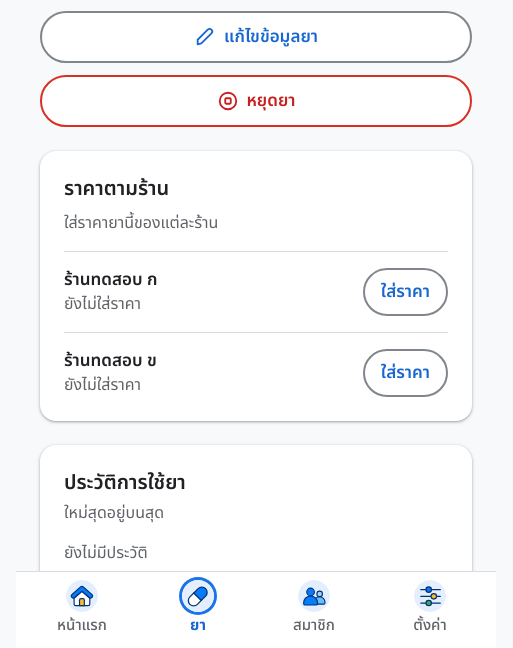
Test: regular medicine: put, change and delete a price › put a price: 290 per กล่อง of 60 -> the row reads it, judya.v2 holds it, "บันทึกราคาของ … แล้ว"
(page scrolled)
Click the button with aria-label "ใส่ราคา ร้านทดสอบ ก" at coordinates (405, 292), box x1=363 y1=268 x2=448 y2=316
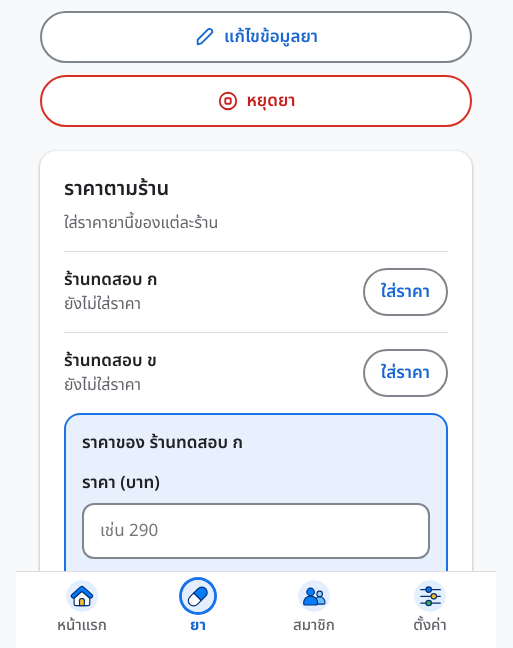
Check: the heading "ราคาของ ร้านทดสอบ ก" is shown, box x1=82 y1=430 x2=243 y2=456
Type "290" into the number field labelled "ราคา (บาท)" at coordinates (256, 531), box x1=82 y1=503 x2=430 y2=559
(page scrolled)
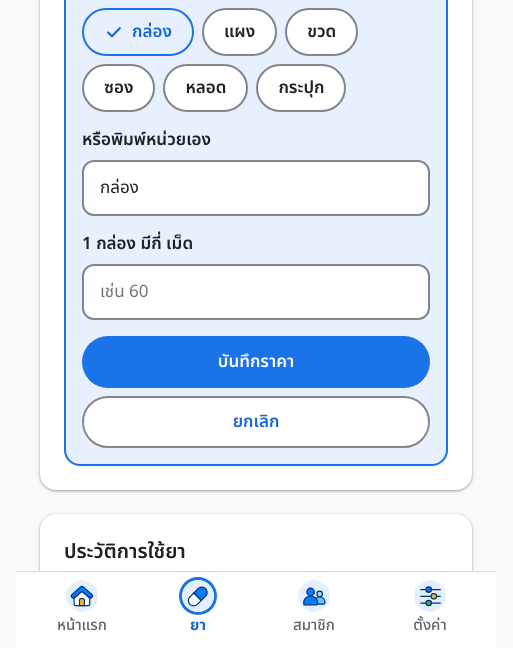
Type "60" into the number field labelled "1 กล่อง มีกี่ เม็ด" at coordinates (256, 292), box x1=82 y1=264 x2=430 y2=320
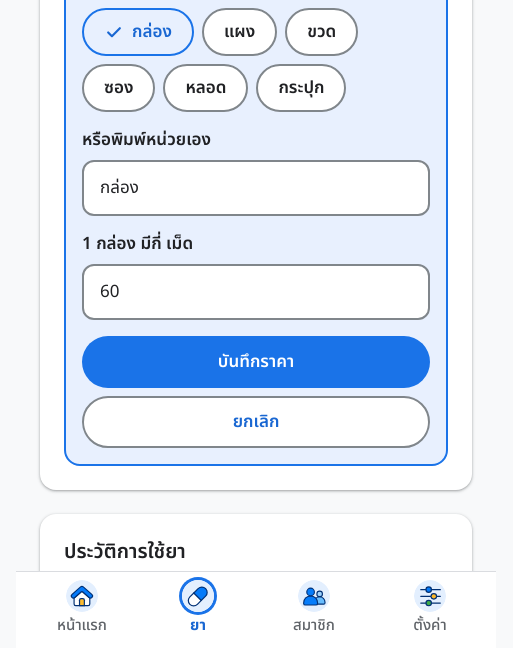
Click the button "บันทึกราคา" at coordinates (256, 362), box x1=82 y1=336 x2=430 y2=388
(page scrolled)
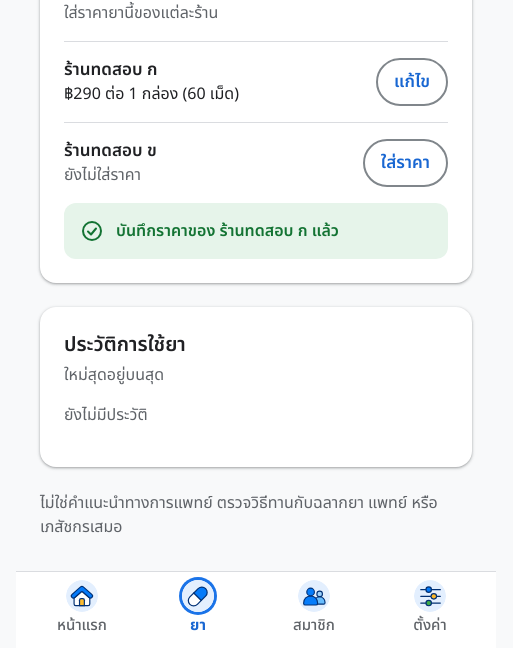
Check: the text "฿290 ต่อ 1 กล่อง (60 เม็ด)" is shown, box x1=64 y1=82 x2=239 y2=106
Check: the text "บันทึกราคาของ ร้านทดสอบ ก แล้ว" is shown, box x1=116 y1=219 x2=339 y2=243
